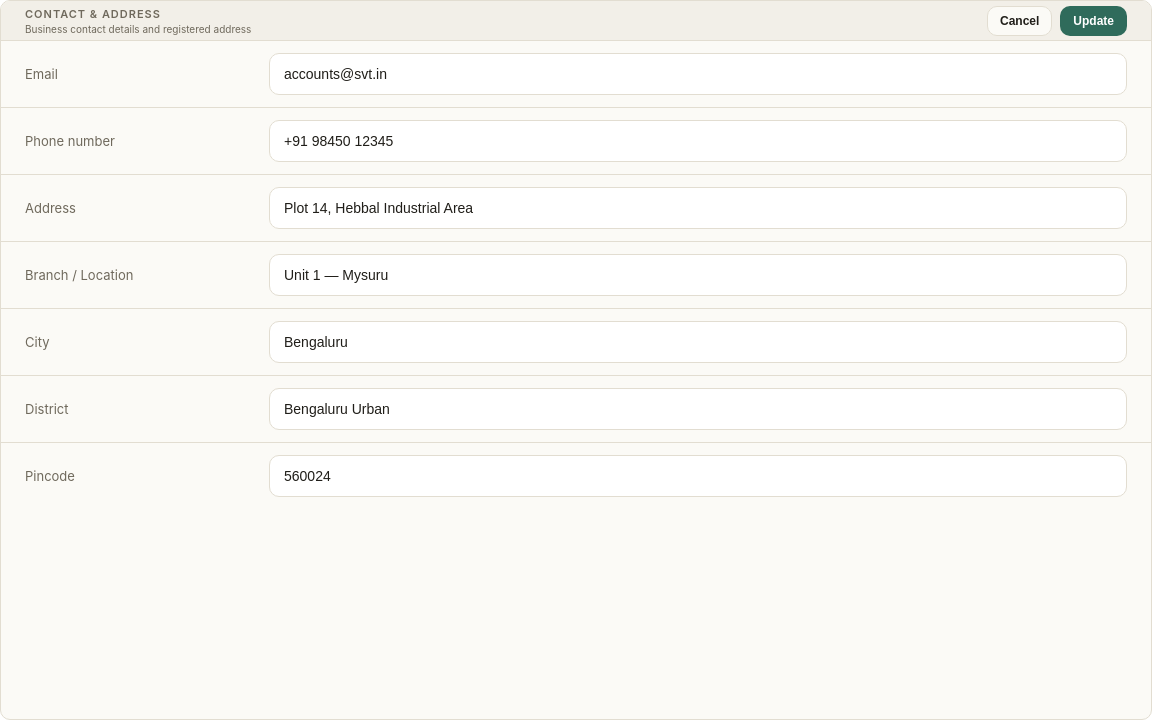
Scenario: ContactSection — edit mode › blocks submit with an invalid email
The width and height of the screenshot is (1152, 720).
Replace the text in the field showing "accounts@svt.in" in the row of "Email" with "not-an-email" at (698, 74), box [269,53,1127,95]
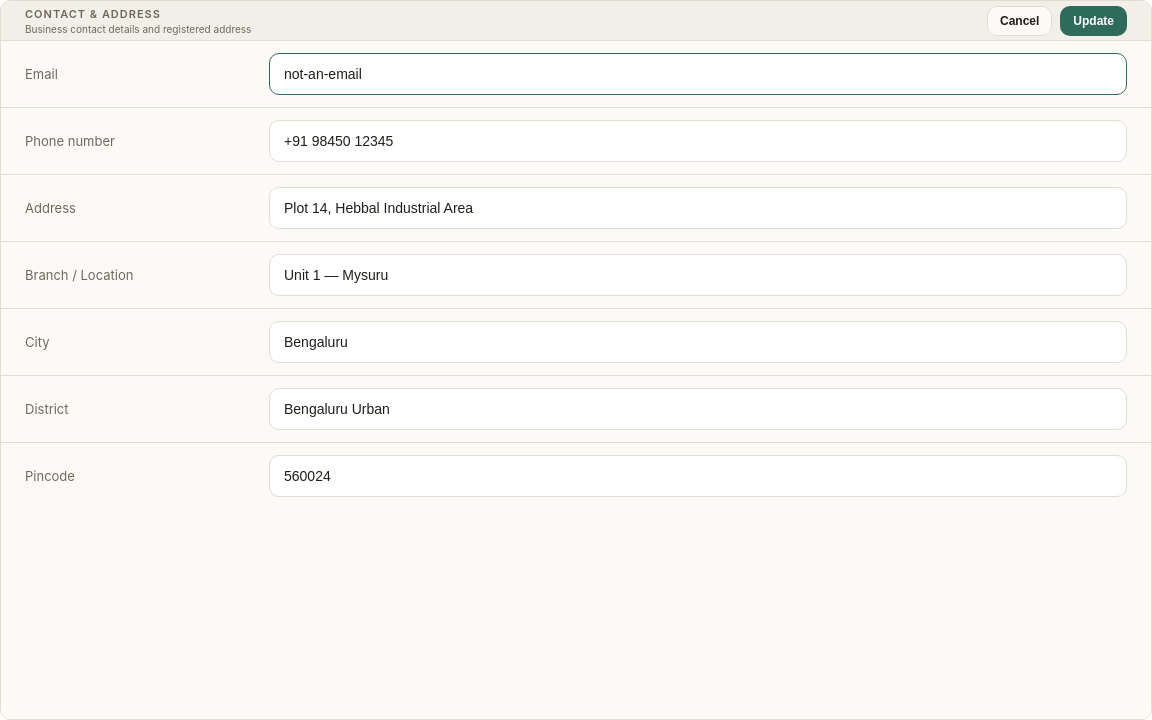
Submit the form with id "contact-details-form"
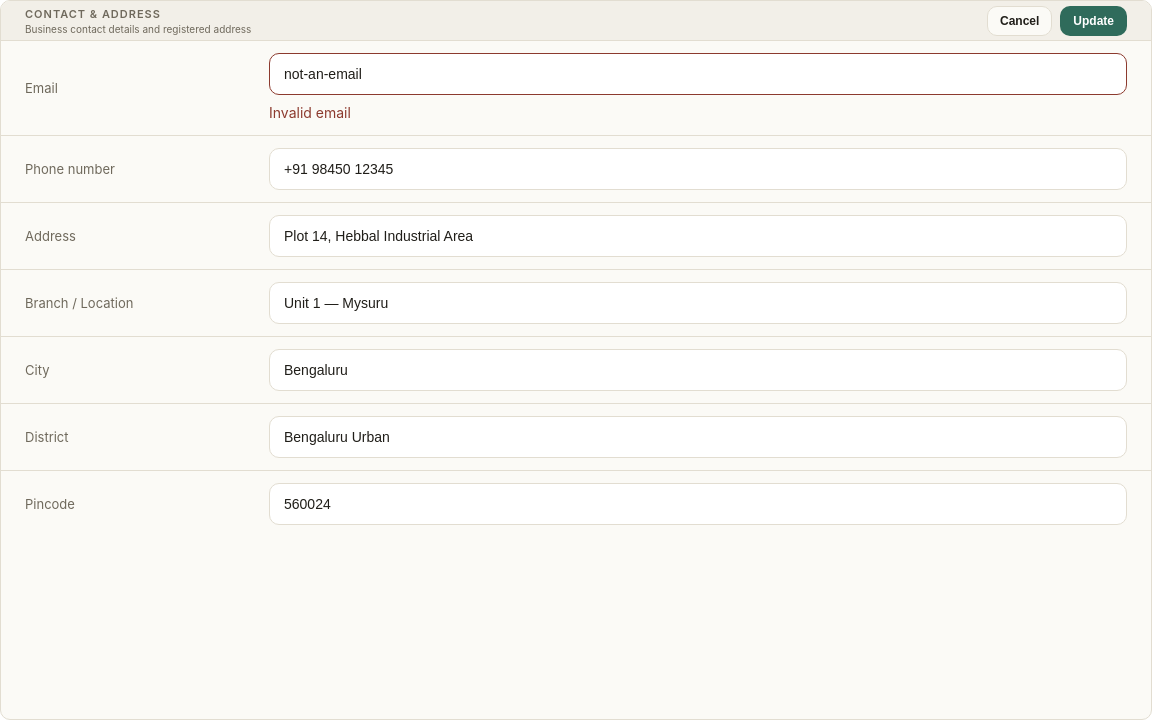
Now the text "Invalid email" is shown, box [269,104,351,121]
